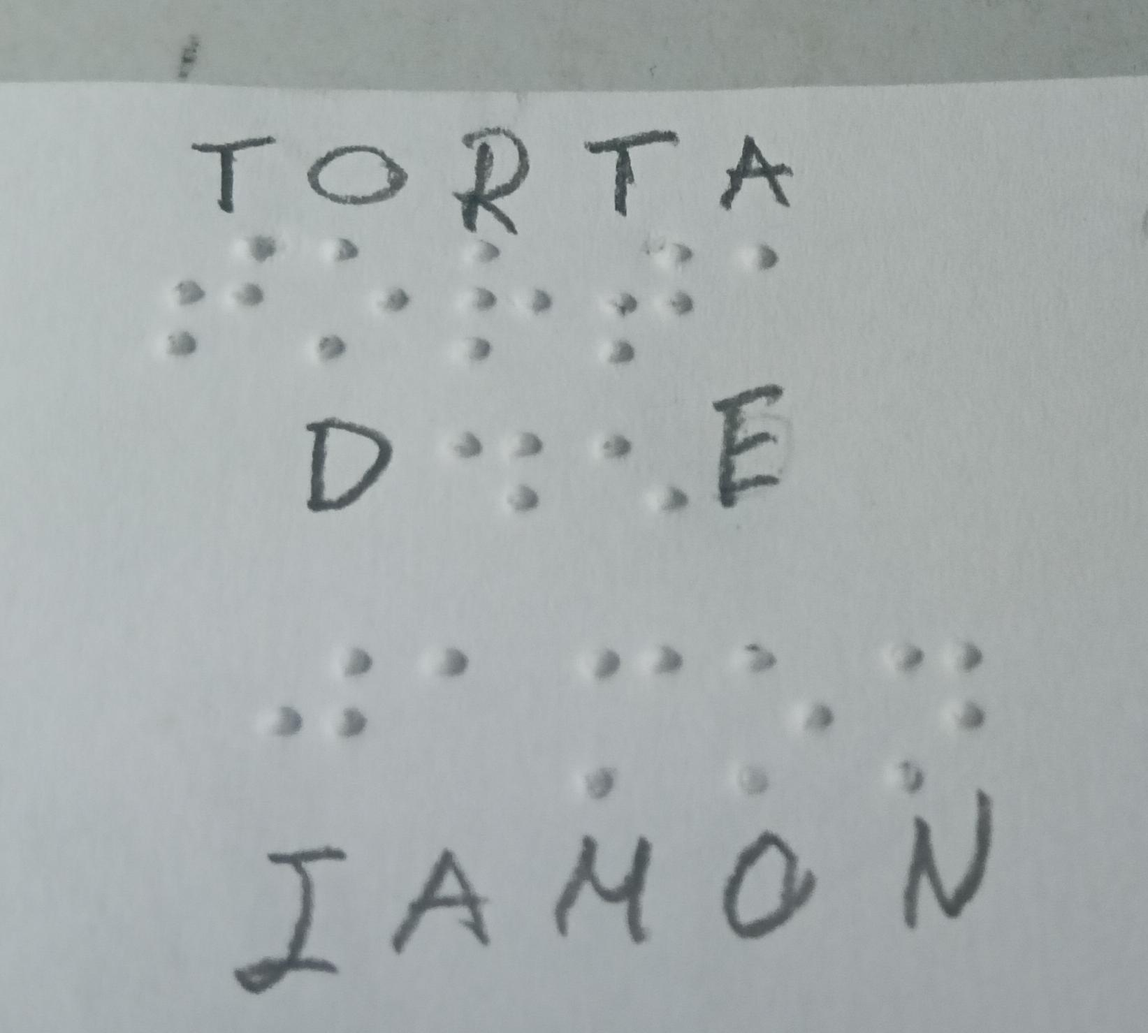a: (384, 601, 506, 734), (708, 215, 816, 307)
d: (433, 413, 565, 541)
e: (582, 411, 701, 549)
j: (226, 625, 389, 785)
m: (538, 599, 695, 824)
n: (855, 601, 1007, 798)
o: (715, 606, 847, 822), (293, 231, 428, 386)
r: (443, 234, 571, 381)
t: (128, 220, 295, 381), (578, 231, 709, 395)
